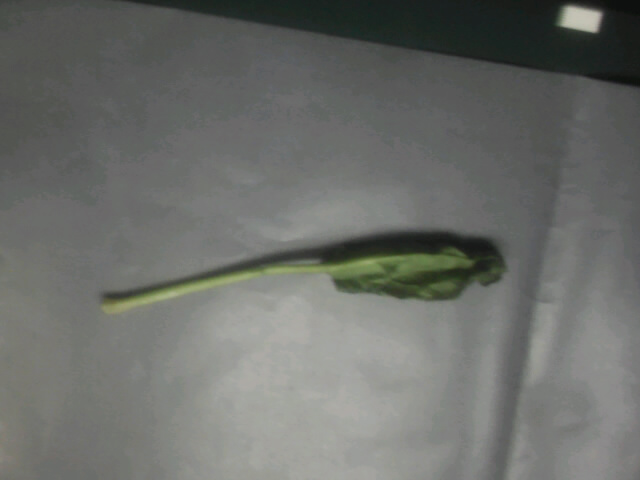yellow: (257, 208, 518, 325)
